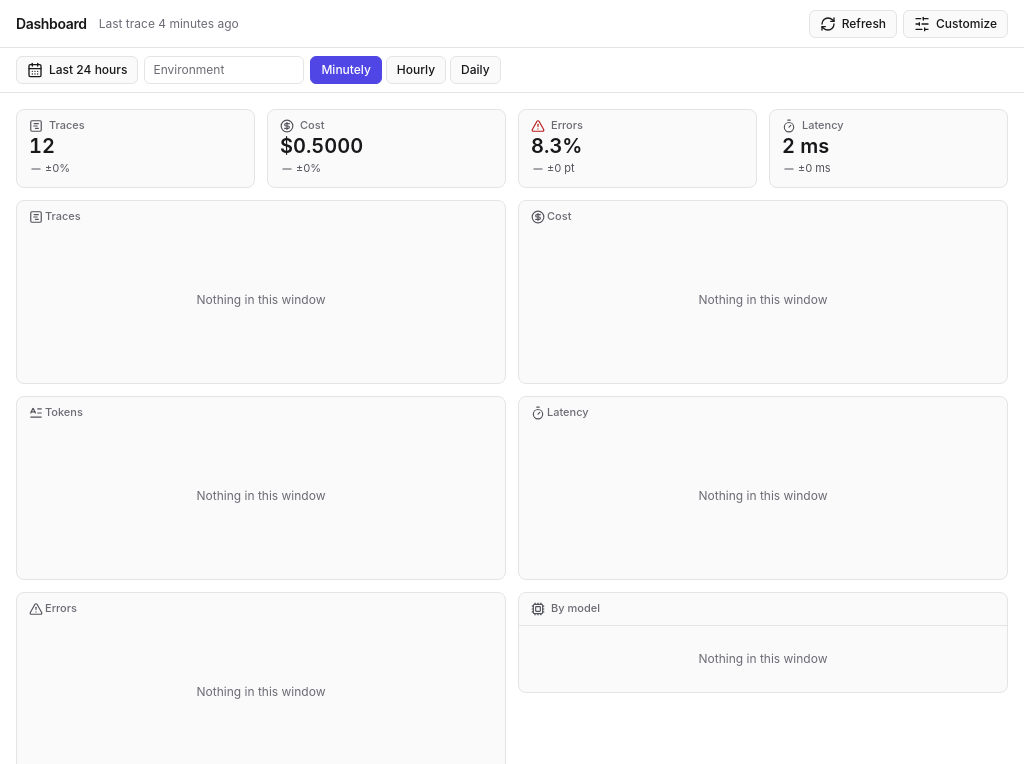
Test: the timeline size › reads a grown window against the clock of the next request
Click the button "Customize" at (956, 24), box [903,10,1008,38]
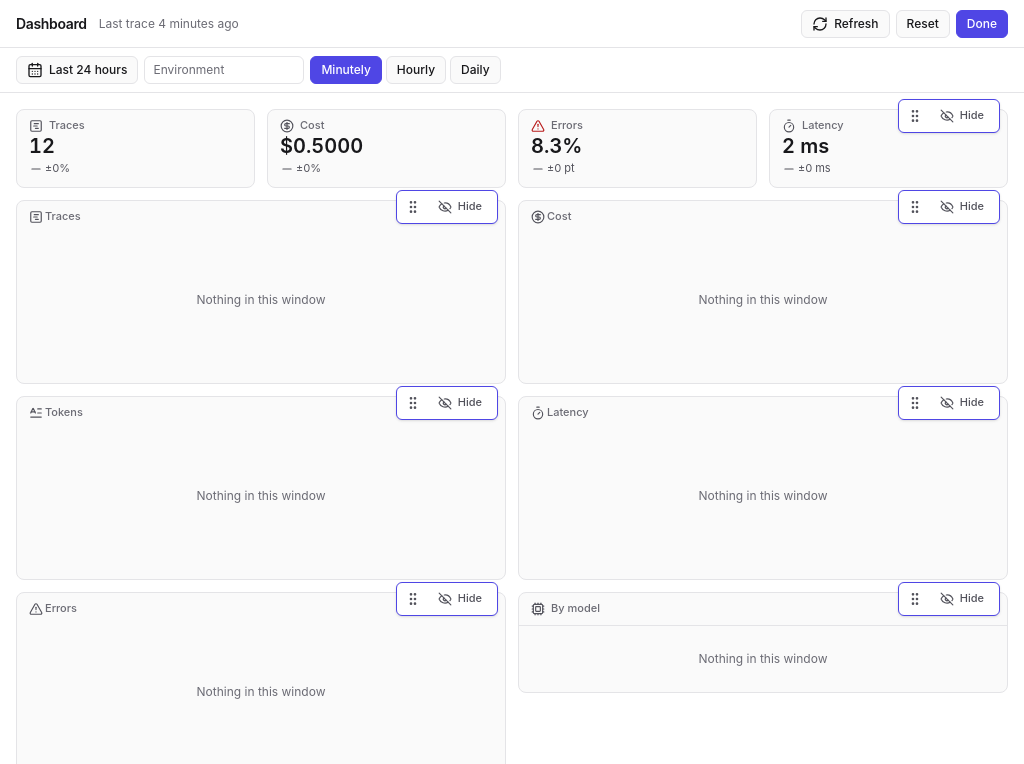
Click the button with aria-label "Hide Tokens" at (460, 403), box [427,389,493,417]
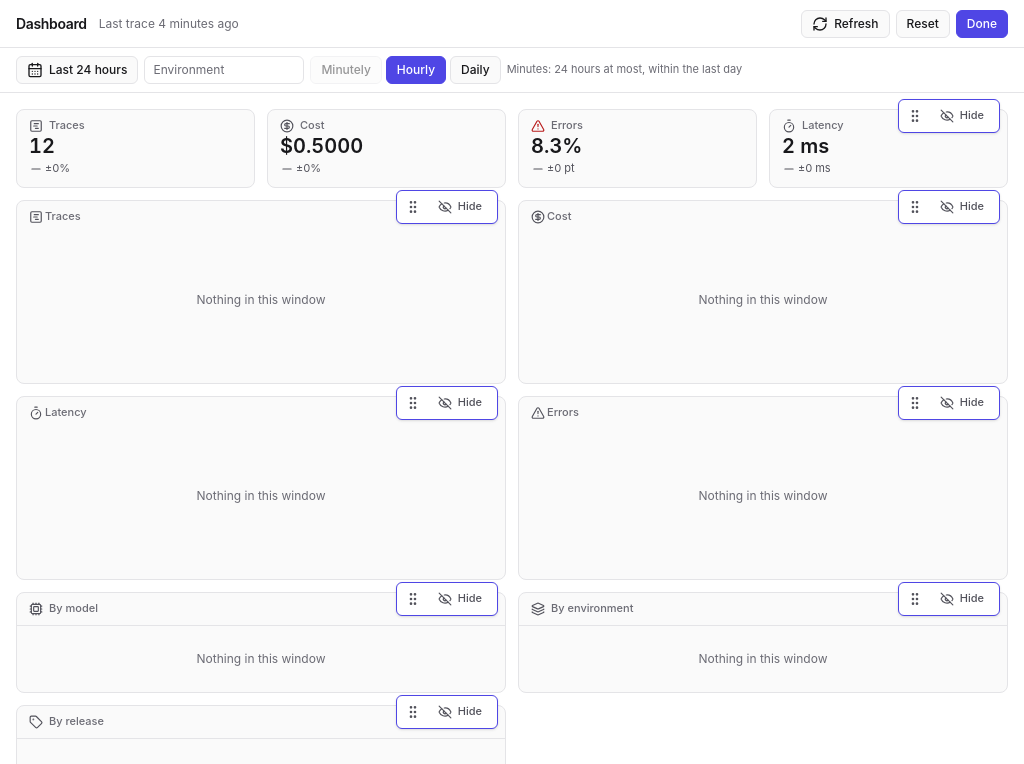
Now the button "Minutely" is disabled, box [310,56,382,84]
